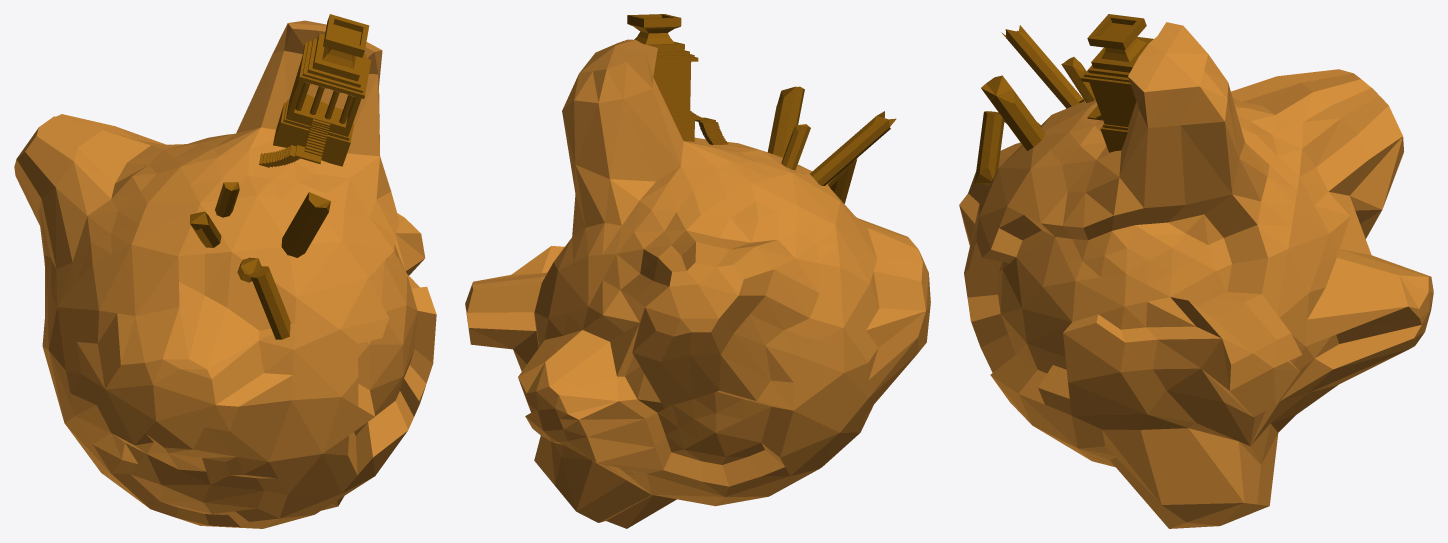
The model's file is korriban_zoom.dae.
3 views of the same model, side by side, from view 1: azimuth 30°, elevation 25°; view 2: azimuth 150°, elevation 25°; view 3: azimuth 270°, elevation 25° (orthographic). The views are drawn at different scales.
Visible parts, largest first — view 1: kamino; view 2: kamino; view 3: kamino.
Part boxes in pixels (<box>): kamino: <box>14,14,436,528</box>; kamino: <box>465,14,930,528</box>; kamino: <box>959,14,1433,528</box>.
Size of the model in its own units: 6.59 by 6.79 by 8.13.
